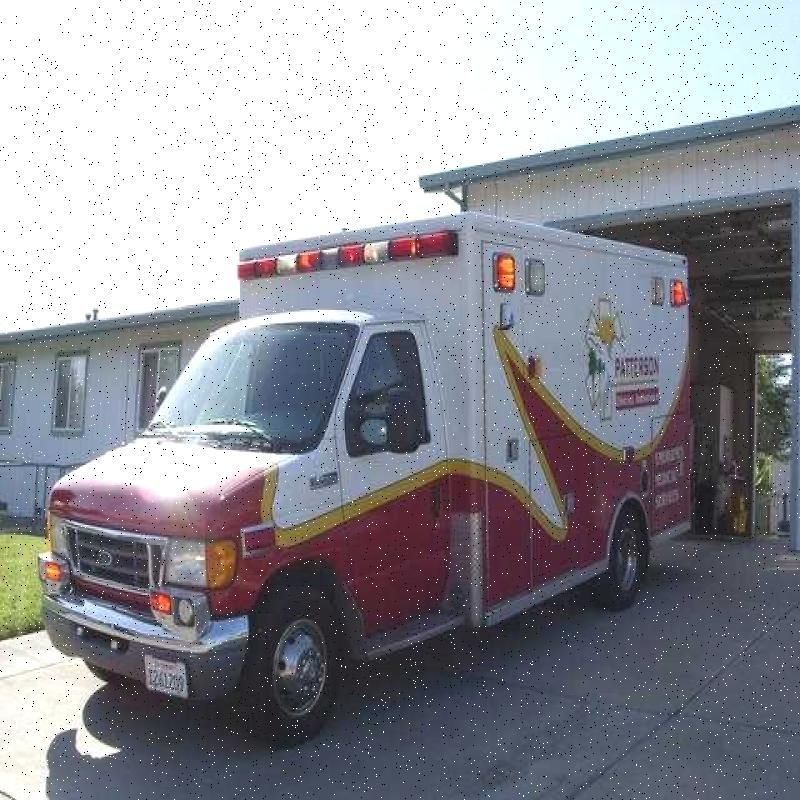AmbulanceSiren: (226, 222, 465, 297)
